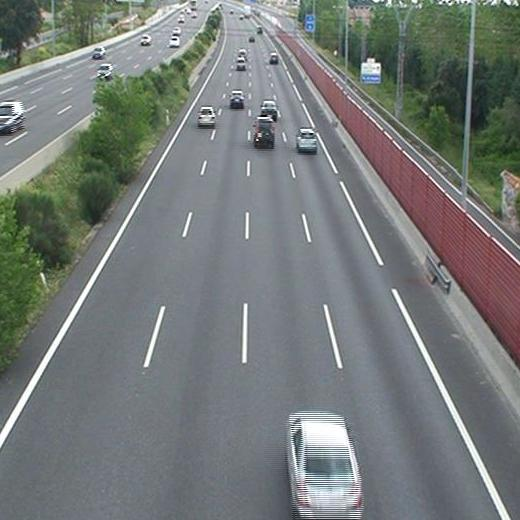car: (287, 412, 363, 520), (254, 118, 274, 143), (295, 129, 315, 150), (198, 108, 216, 126), (261, 101, 275, 115), (230, 91, 243, 105), (269, 53, 280, 66), (236, 58, 246, 69)
